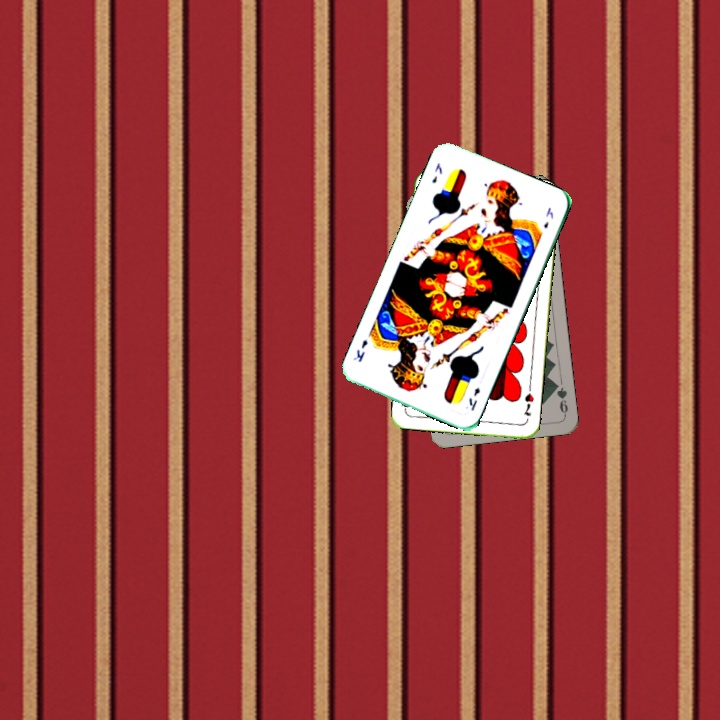EK: (465, 383, 483, 413), (428, 159, 445, 186)
G9: (550, 378, 571, 418)
H7: (520, 389, 536, 419)
